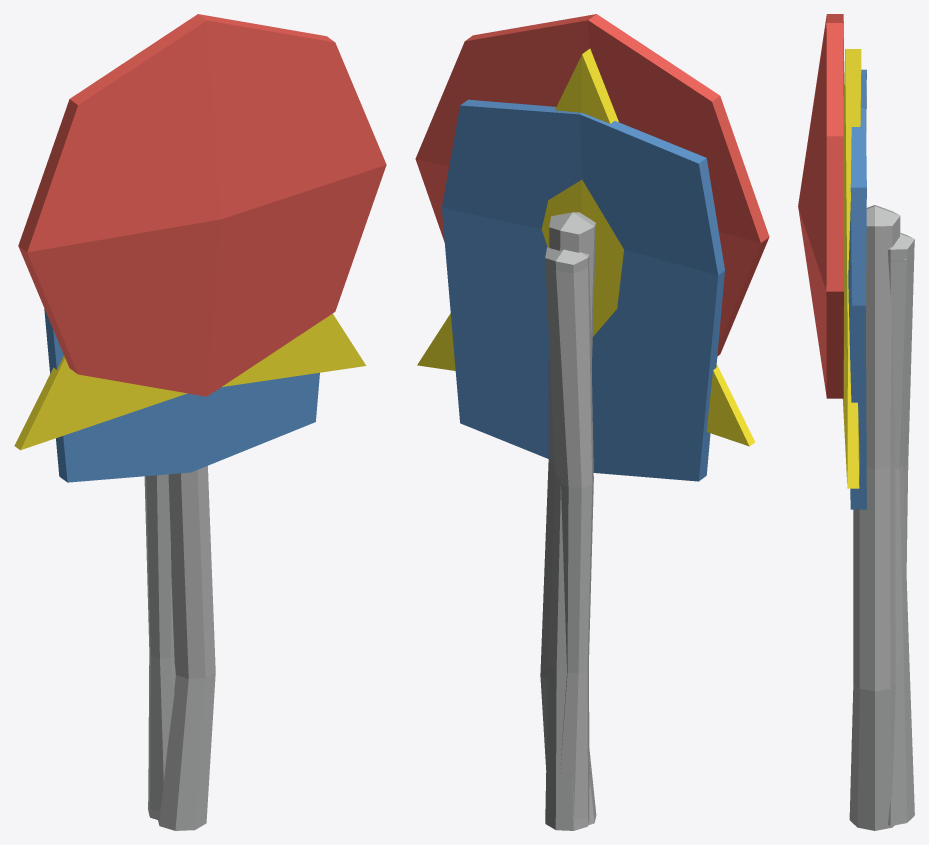
File: Cenarios.fbx_Placas.fbx
3 renders of one model, left to right at view 1: azimuth 30°, elevation 25°; view 2: azimuth 150°, elevation 25°; view 3: azimuth 270°, elevation 25°, orthographic. The views are drawn at different scales.
Parts seen in each view (by area): view 1: Placa redonda, Placa Triangular, Placa Quadrada; view 2: Placa Quadrada, Placa redonda, Placa Triangular; view 3: Placa redonda, Placa Quadrada, Placa Triangular.
Boxes of the visible parts, x1,y1,x2,y2 form: Placa redonda: [18, 14, 386, 830]; Placa Triangular: [14, 313, 366, 820]; Placa Quadrada: [44, 309, 319, 819]; Placa Quadrada: [442, 99, 724, 830]; Placa redonda: [415, 14, 769, 824]; Placa Triangular: [417, 48, 755, 830]; Placa redonda: [798, 14, 900, 830]; Placa Quadrada: [848, 69, 914, 825]; Placa Triangular: [842, 49, 914, 826].
Bounding box in the file's own units: 115 × 250 × 33.21.
